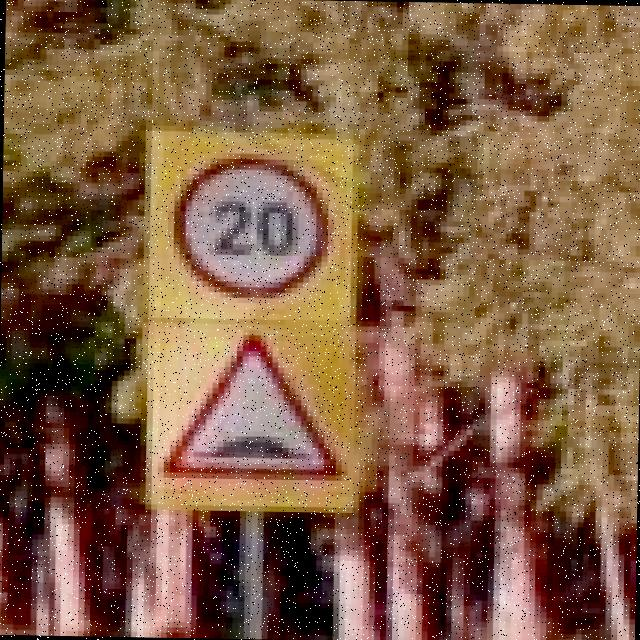Ograniczenie predkosci do 20: (172, 152, 335, 305)
